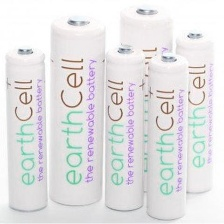battery: (47, 11, 107, 210), (117, 3, 176, 196), (3, 42, 50, 214), (172, 26, 216, 197), (103, 43, 146, 214), (146, 51, 189, 221)
